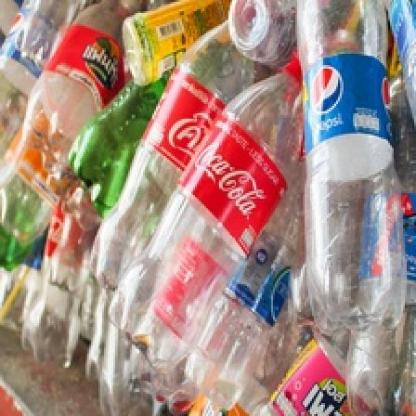Plastic Bottle: (2, 0, 414, 414), (106, 61, 306, 413), (90, 15, 266, 287), (297, 0, 407, 414), (1, 0, 140, 310)
